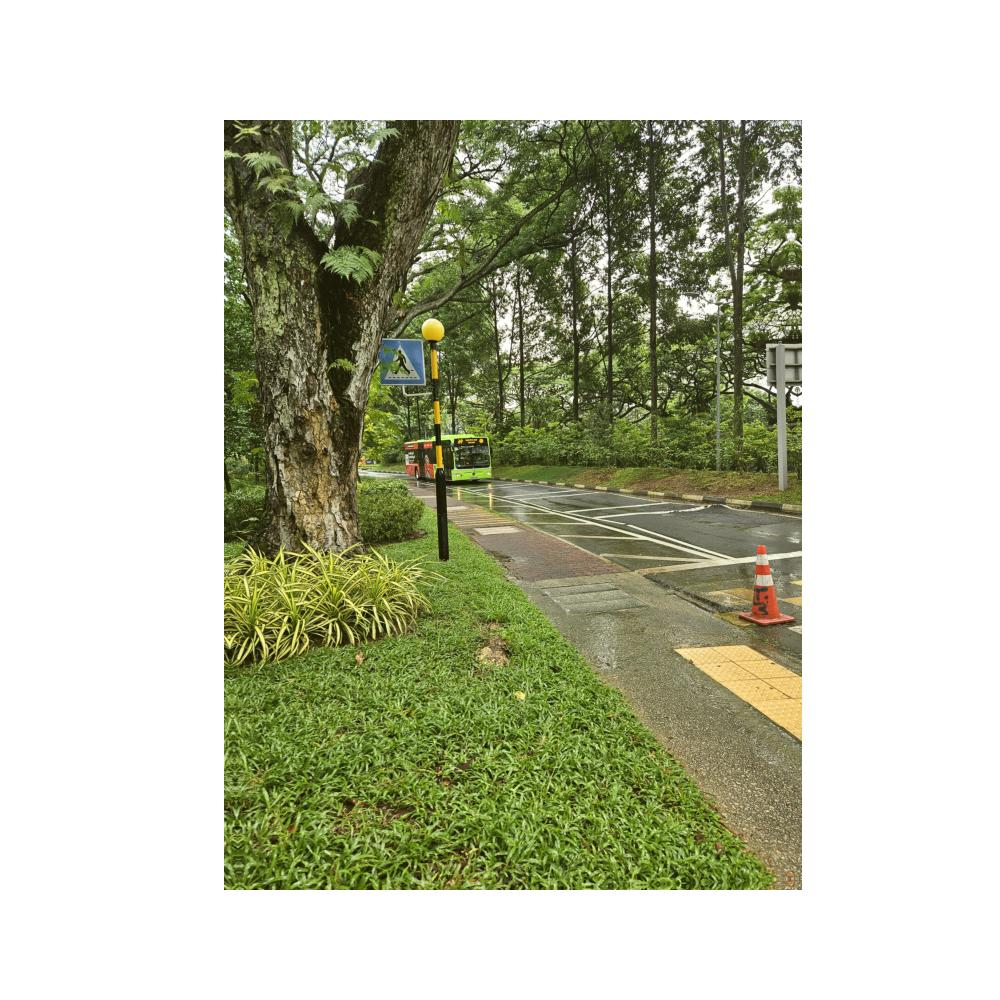bus: (399, 429, 497, 488)
